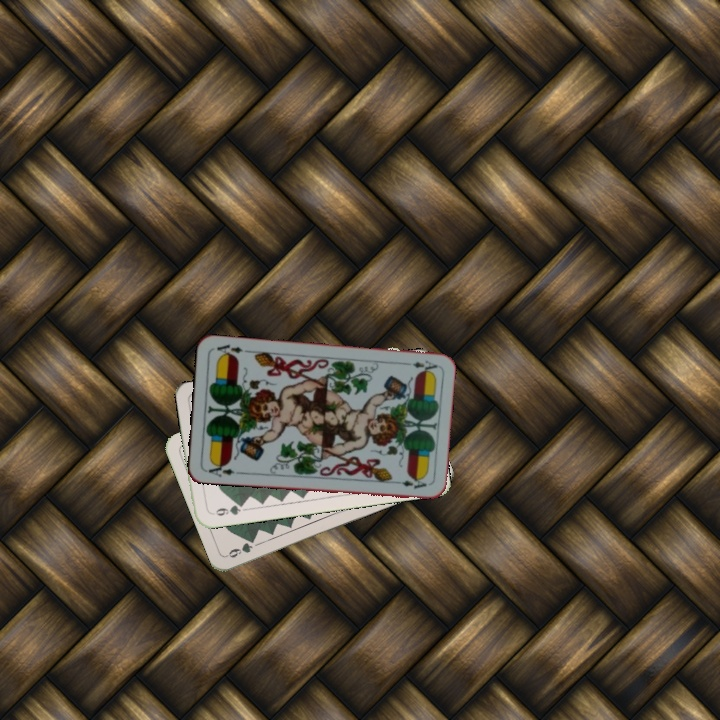EA: (399, 356, 440, 375), (202, 459, 237, 479)
G9: (207, 499, 247, 518), (223, 538, 255, 560)
